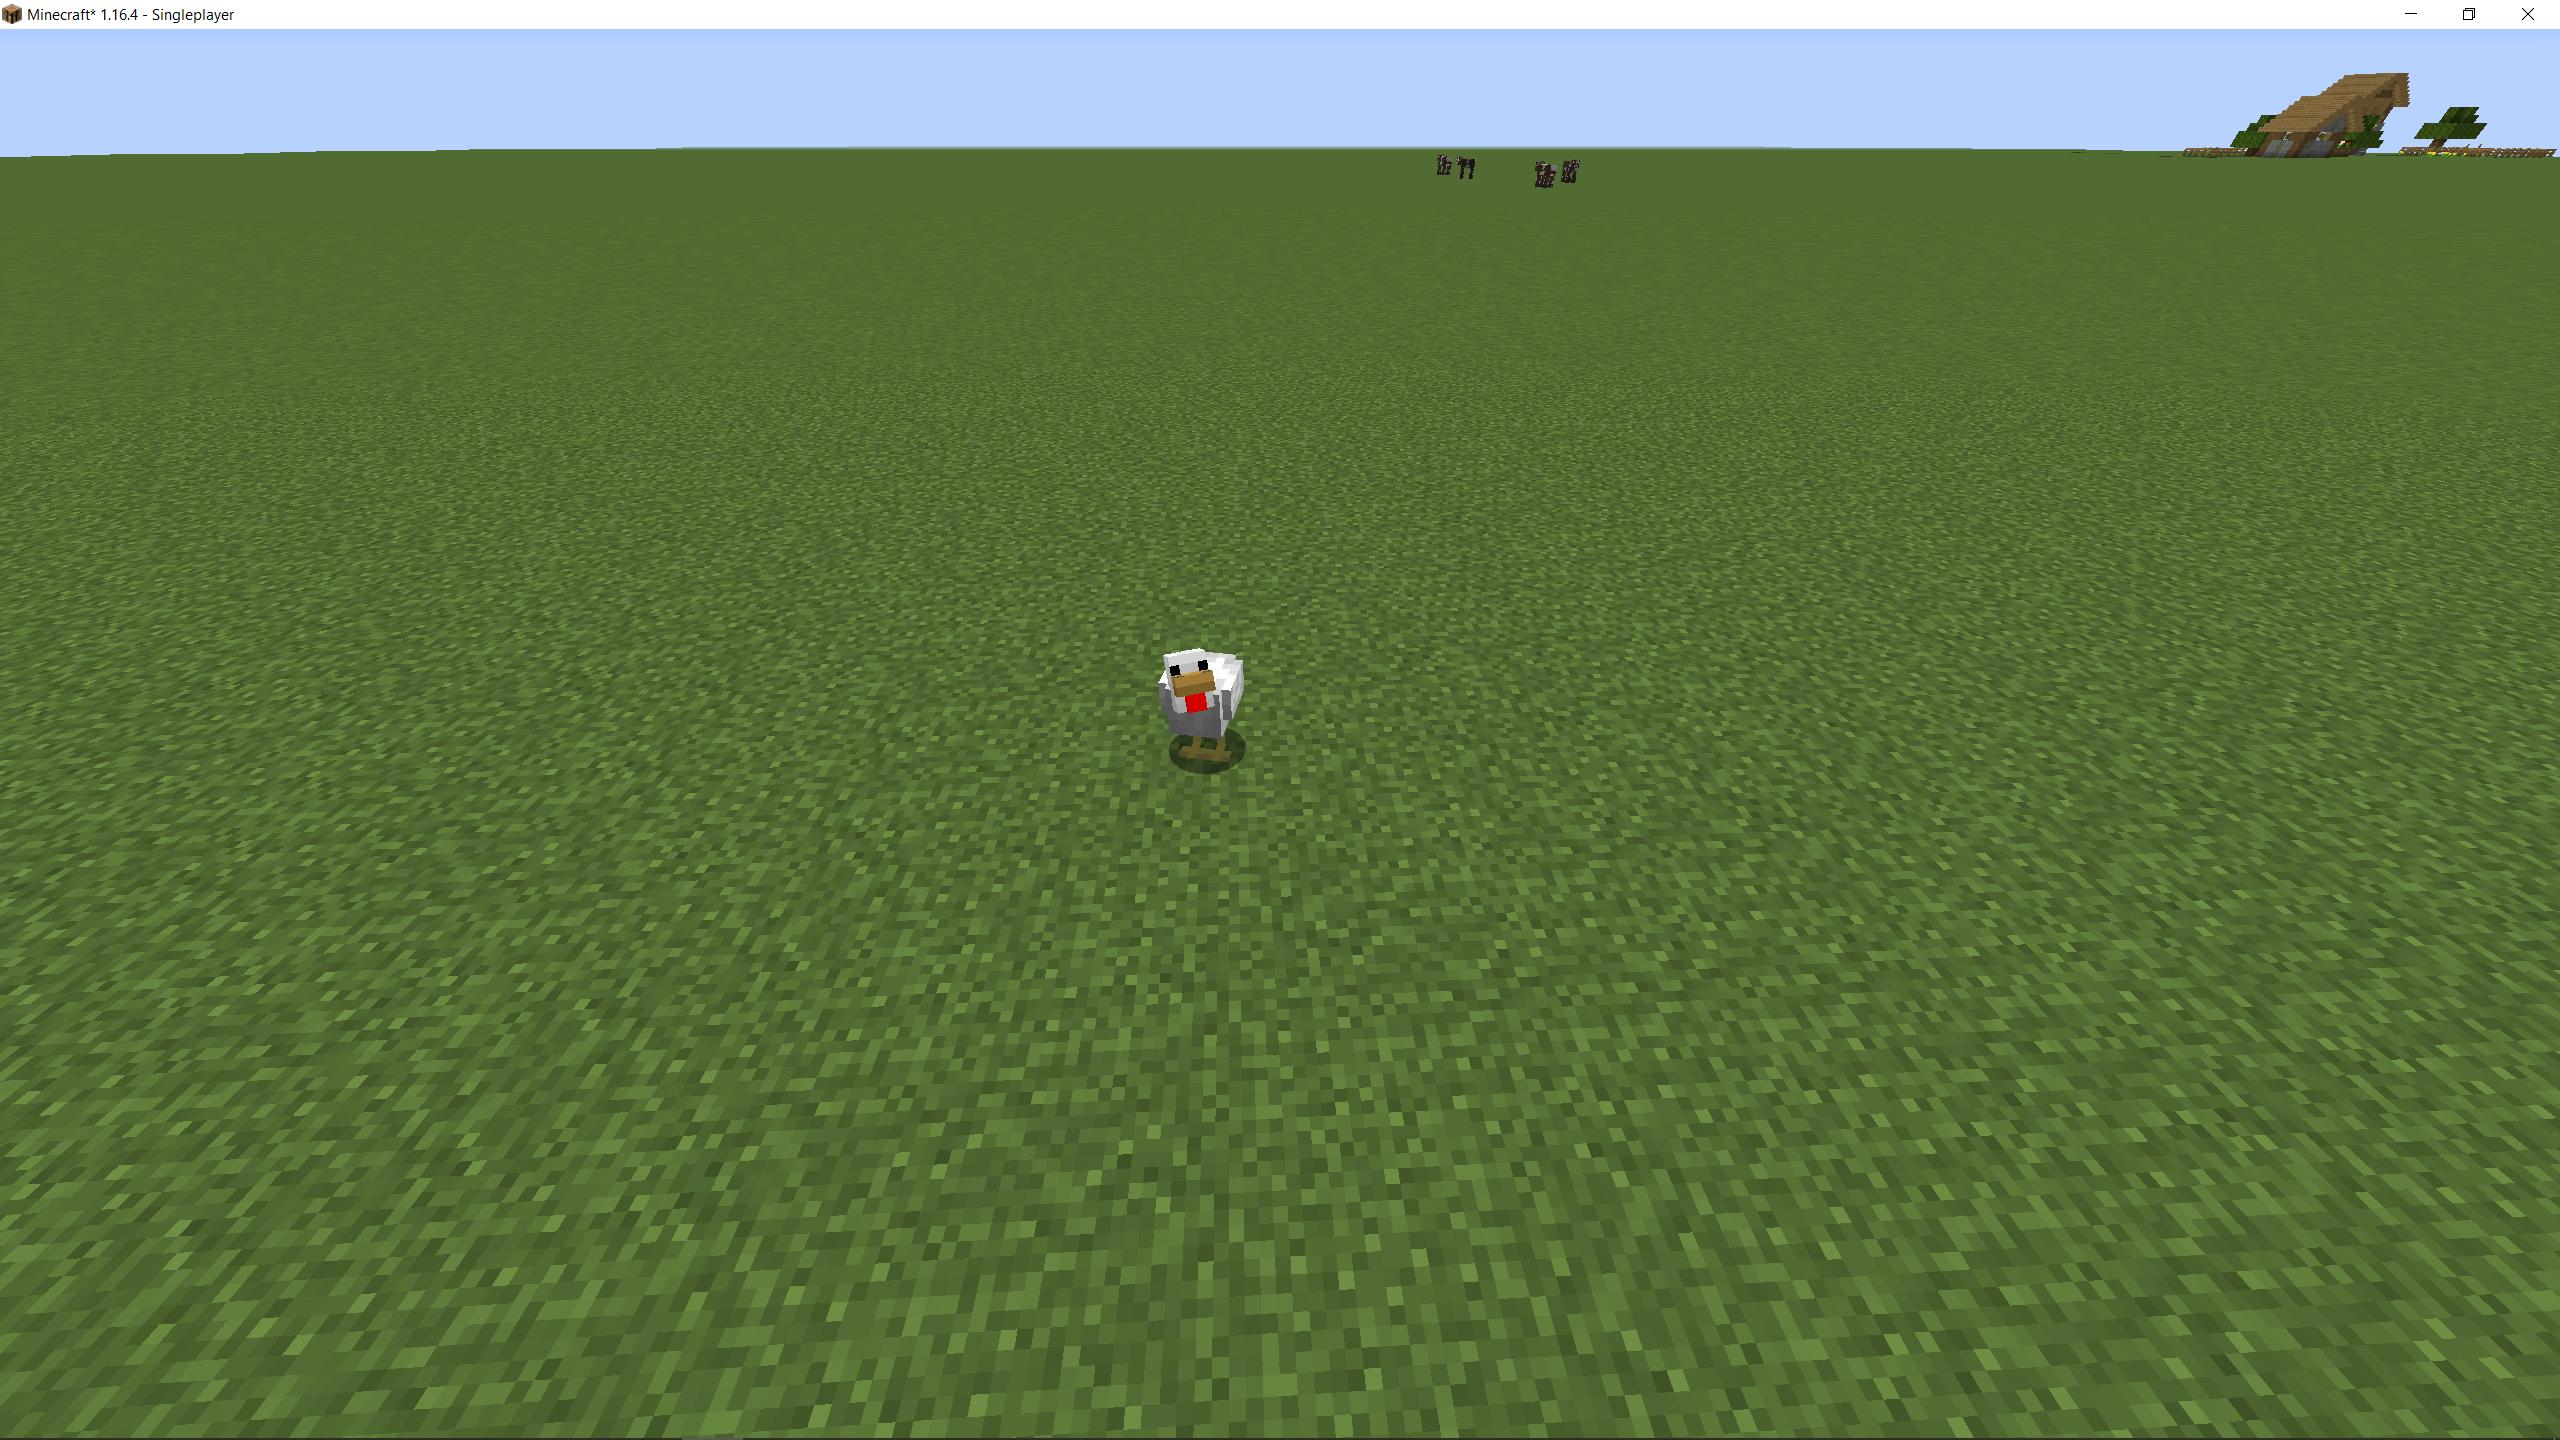chicken: (1148, 642, 1252, 774)
